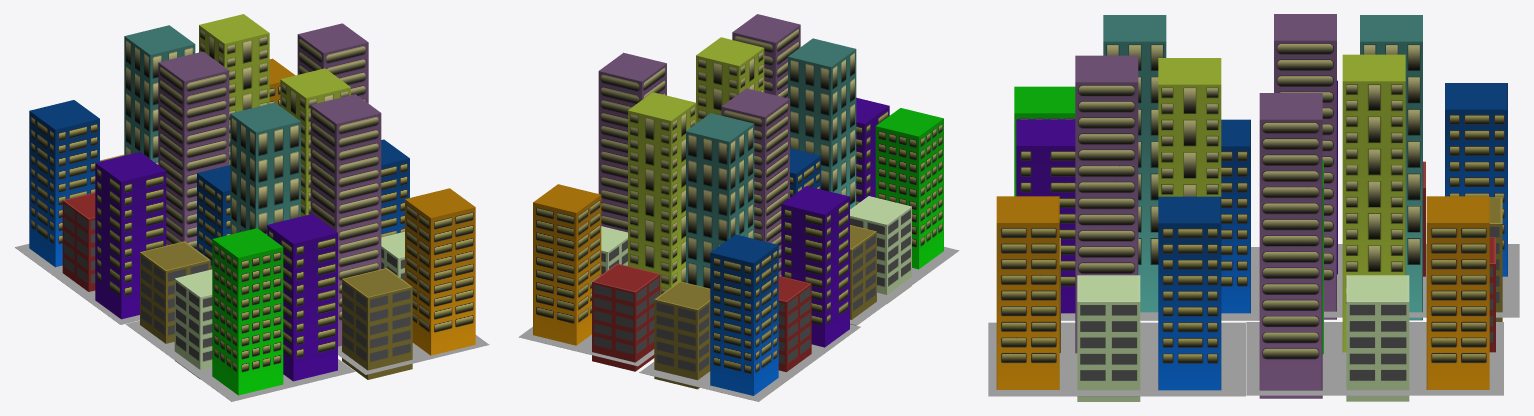
The model's file is predio3.fbx.
The picture shows the model from 3 angles, left to right: view 1: azimuth 30°, elevation 25°; view 2: azimuth 150°, elevation 25°; view 3: azimuth 270°, elevation 25°; orthographic projection. The views are drawn at different scales.
Parts seen in each view (by area): view 1: polySurface51, polySurface31, polySurface34, polySurface61, polySurface38, polySurface36, polySurface40, polySurface28, polySurface53, polySurface63, polySurface62, polySurface58 (+11 smaller); view 2: polySurface62, polySurface40, polySurface39, polySurface63, polySurface28, polySurface38, polySurface31, polySurface60, polySurface54, polySurface61, polySurface56, polySurface47 (+10 smaller); view 3: polySurface60, polySurface62, polySurface51, polySurface35, polySurface34, polySurface39, polySurface47, polySurface61, polySurface28, polySurface52, polySurface55, polySurface40 (+10 smaller).
Part boxes in pixels (x1,y1,x2,y2): polySurface51: (310,94,381,346); polySurface31: (212,228,283,395); polySurface34: (405,188,475,355); polySurface61: (158,51,229,249); polySurface38: (95,152,166,319); polySurface36: (267,214,337,381); polySurface40: (29,100,99,267); polySurface28: (230,102,300,234); polySurface53: (342,268,412,379); polySurface63: (124,25,195,164); polySurface62: (199,14,269,164); polySurface58: (140,241,210,343); polySurface62: (628,92,696,294); polySurface40: (710,234,778,395); polySurface39: (533,184,601,345); polySurface63: (686,113,754,288); polySurface28: (788,38,856,209); polySurface38: (781,186,849,347); polySurface31: (875,108,943,269); polySurface60: (598,52,666,232); polySurface54: (592,263,660,371); polySurface61: (721,88,789,275); polySurface56: (654,281,710,389); polySurface47: (696,37,764,123); polySurface60: (1259,93,1322,398); polySurface62: (1342,54,1405,352); polySurface51: (1075,55,1138,353); polySurface35: (1158,196,1221,390); polySurface34: (996,196,1059,389); polySurface39: (1426,196,1489,389); polySurface47: (1158,58,1221,196); polySurface61: (1274,14,1336,319); polySurface28: (1103,15,1166,312); polySurface52: (1346,275,1409,401); polySurface55: (1077,275,1140,401); polySurface40: (1445,83,1507,276).
Bounding box in the file's own units: 8.43 × 7.3 × 12.45.
